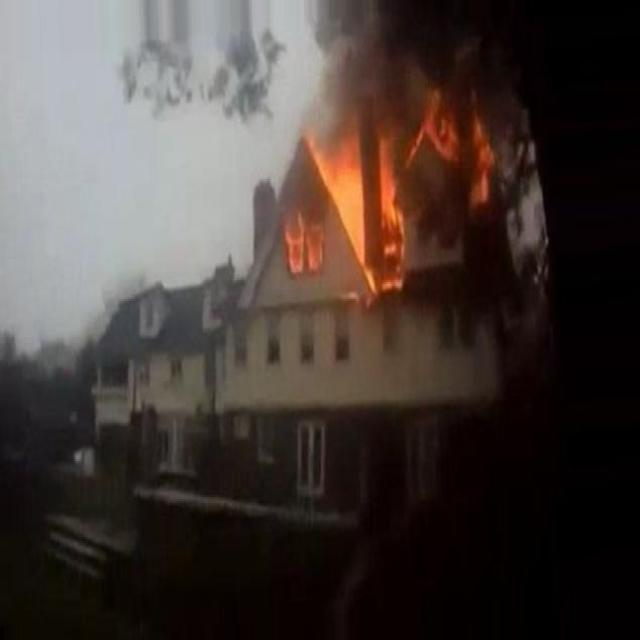fire: (291, 99, 495, 302)
